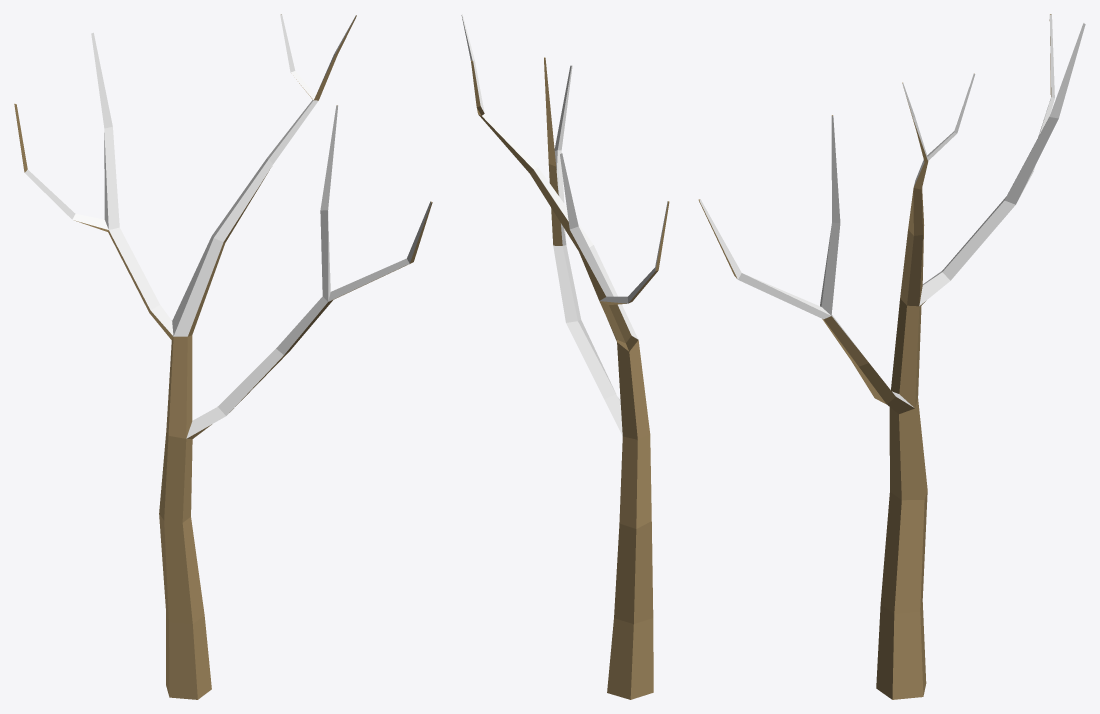
The model's file is Acacia_Tree_NoLeaves_l_Snow_BT_05.fbx.
3 renders of one model, left to right at view 1: azimuth 30°, elevation 25°; view 2: azimuth 150°, elevation 25°; view 3: azimuth 270°, elevation 25°, orthographic. The views are drawn at different scales.
Parts seen in each view (by area): view 1: Acacia_Tree_NoLeaves_l_Snow_BT_05; view 2: Acacia_Tree_NoLeaves_l_Snow_BT_05; view 3: Acacia_Tree_NoLeaves_l_Snow_BT_05.
Part boxes in pixels (x1,y1,x2,y2): Acacia_Tree_NoLeaves_l_Snow_BT_05: (14,14,432,699); Acacia_Tree_NoLeaves_l_Snow_BT_05: (461,14,669,699); Acacia_Tree_NoLeaves_l_Snow_BT_05: (698,14,1085,699).
Bounding box in the file's own units: 473 × 1043 × 525.
